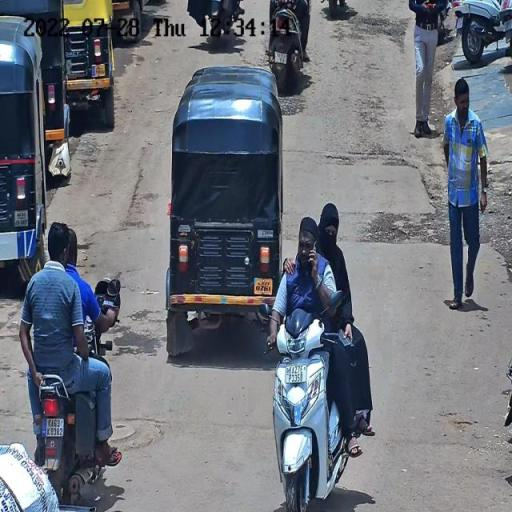using mobile: (308, 232, 321, 274)
